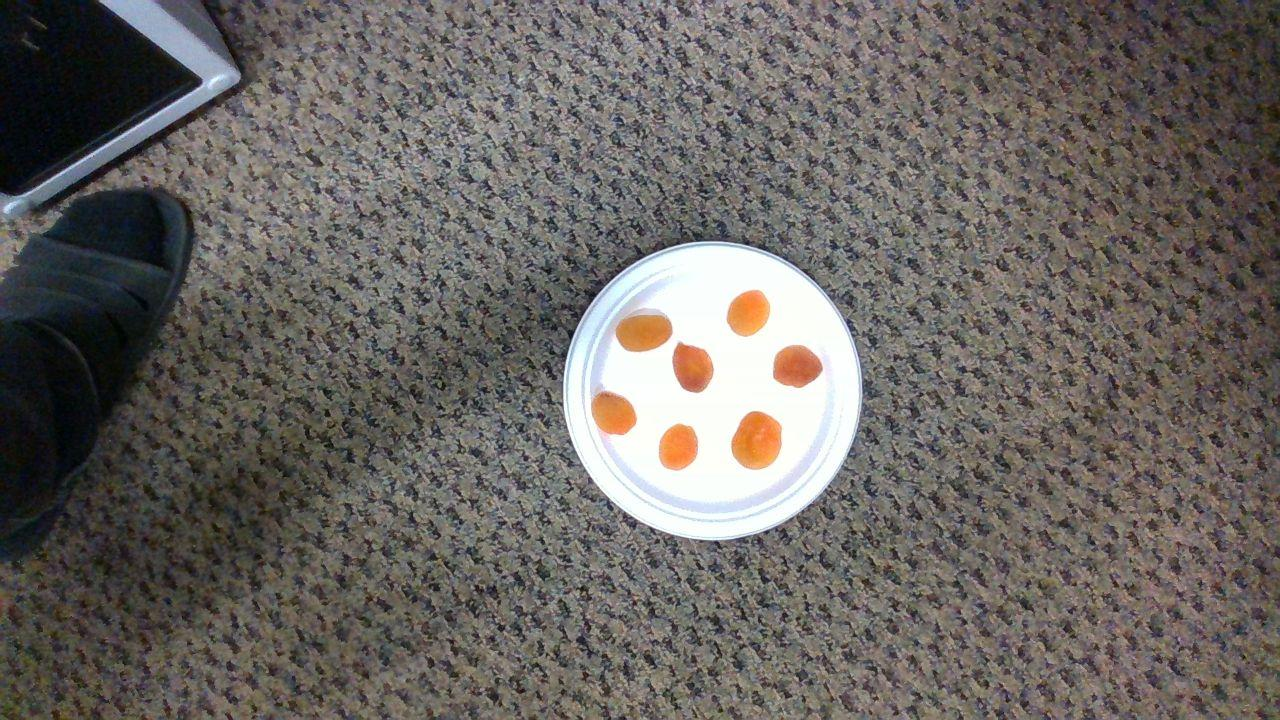apricot: (733, 412, 780, 469), (616, 314, 672, 351), (673, 342, 714, 392), (775, 347, 822, 386), (729, 291, 768, 336), (594, 394, 636, 435), (659, 424, 696, 470)
